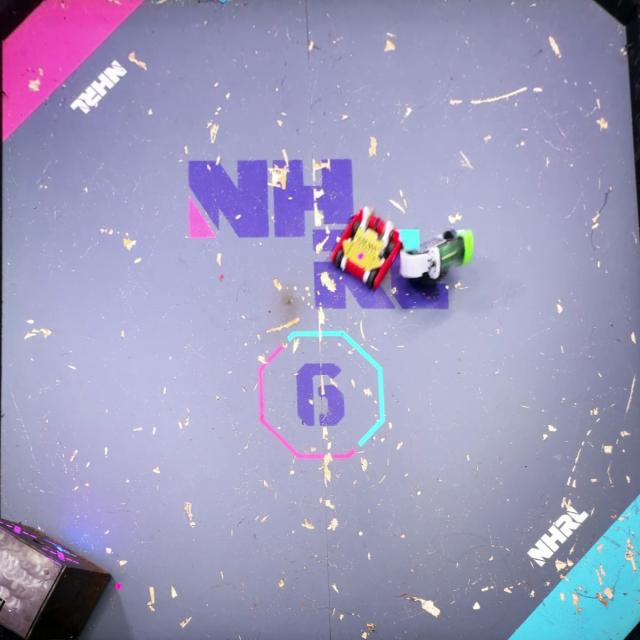housebot: (0, 514, 114, 640)
robot: (331, 205, 401, 292), (398, 226, 473, 298)
